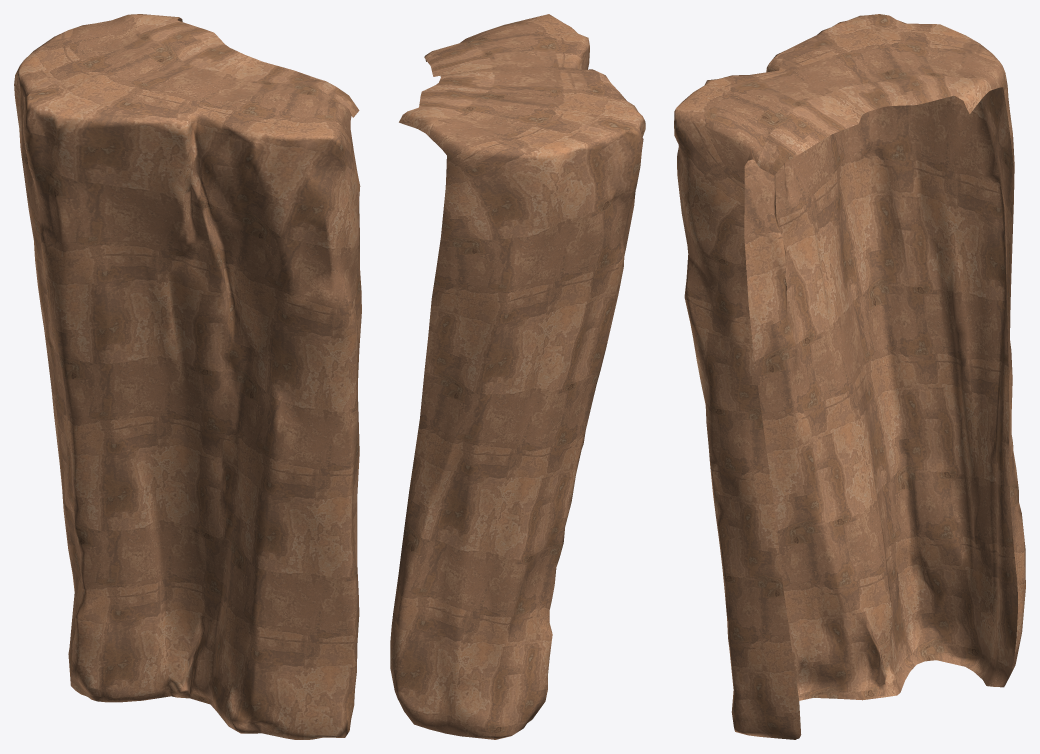
Rendered from Ob_RockCliff29.fbx.
3 views of the same model, side by side, from view 1: azimuth 30°, elevation 25°; view 2: azimuth 150°, elevation 25°; view 3: azimuth 270°, elevation 25° (orthographic). The views are drawn at different scales.
Visible parts, largest first — view 1: Ob_RockCliff29; view 2: Ob_RockCliff29; view 3: Ob_RockCliff29.
Part boxes in pixels (left/top/right/bottom): Ob_RockCliff29: left=14, top=14, right=361, bottom=739; Ob_RockCliff29: left=390, top=14, right=645, bottom=739; Ob_RockCliff29: left=674, top=14, right=1025, bottom=739.
Bounding box in the file's own units: 14347 × 31753 × 16325.
